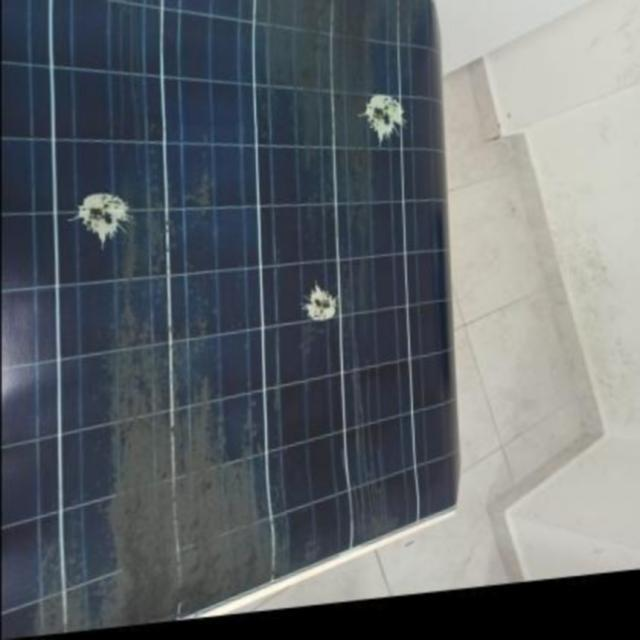soiled: (5, 1, 452, 638)
